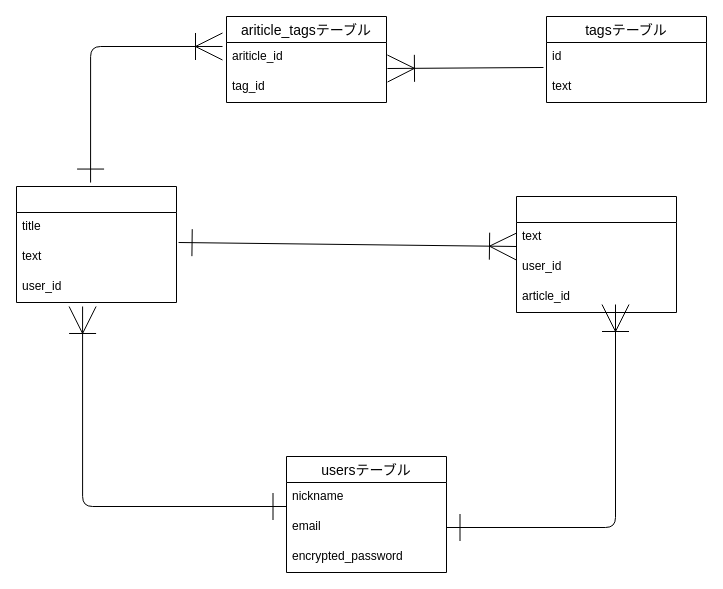
Image size: 723x589. Some labels were removed from this diagram. Here are the shapes that lost their labels. From the top down, the box of each, then its label:
(16, 186, 176, 302): articleテーブル
(516, 196, 676, 312): commentsテーブル
